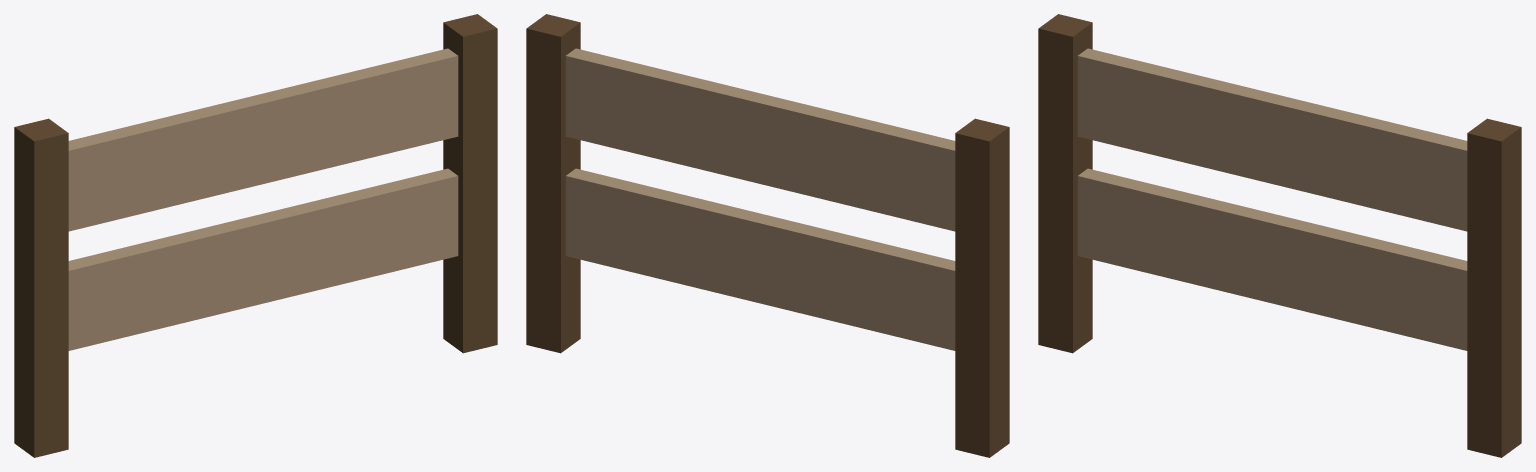
Rendered from fence_01.FBX.
3 renders of one model, left to right at view 1: azimuth 30°, elevation 25°; view 2: azimuth 150°, elevation 25°; view 3: azimuth 330°, elevation 25°, orthographic.
Visible parts, largest first — view 1: fence_01; view 2: fence_01; view 3: fence_01.
Part boxes in pixels (<box>): fence_01: <box>14,14,497,457</box>; fence_01: <box>526,14,1009,457</box>; fence_01: <box>1038,14,1521,457</box>.
Size of the model in its own units: 78.27 by 51.1 by 5.81.
Materials: 1 (1 with a texture image).
